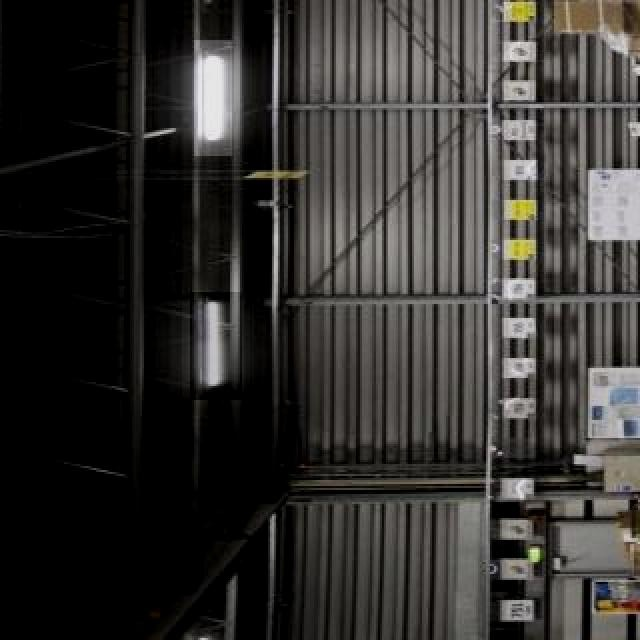fluorescent tube: (192, 38, 232, 166), (188, 282, 228, 405)
